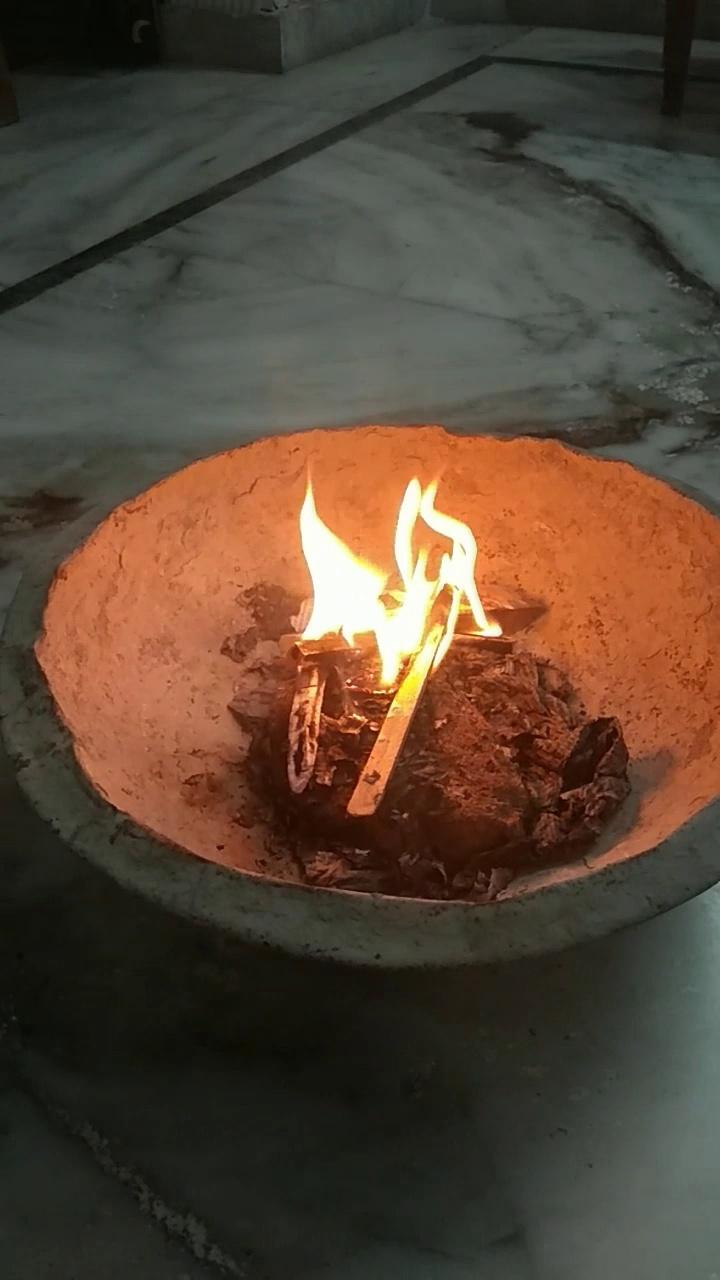fire: (288, 431, 512, 692)
